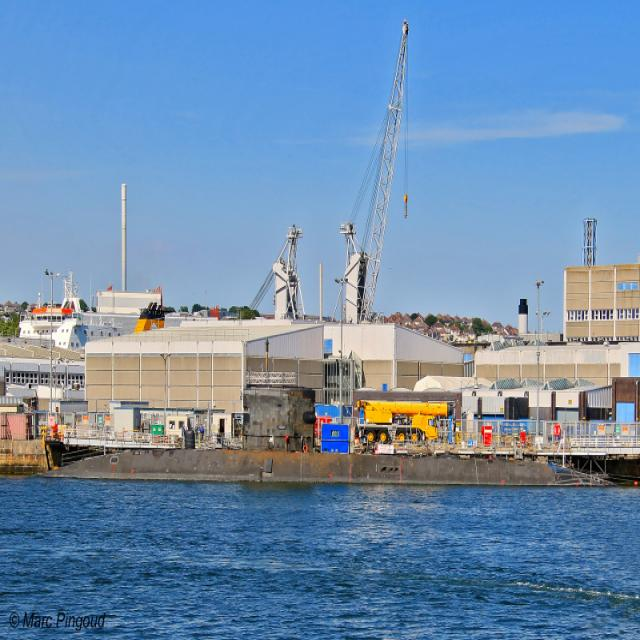submarine: (37, 387, 563, 488)
